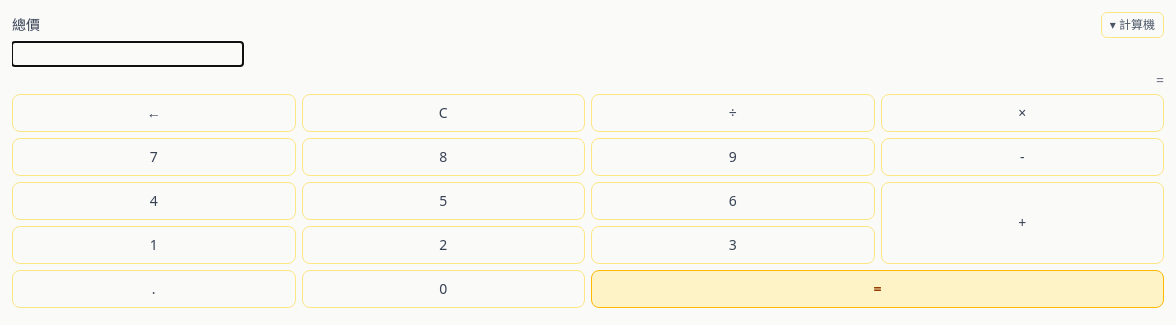
Test case: appends 8 then 0 even when the mobile input blurs after the first tap
Step 1. Press the mouse on the button "8" → (443, 157), box left=302, top=138, right=585, bottom=176
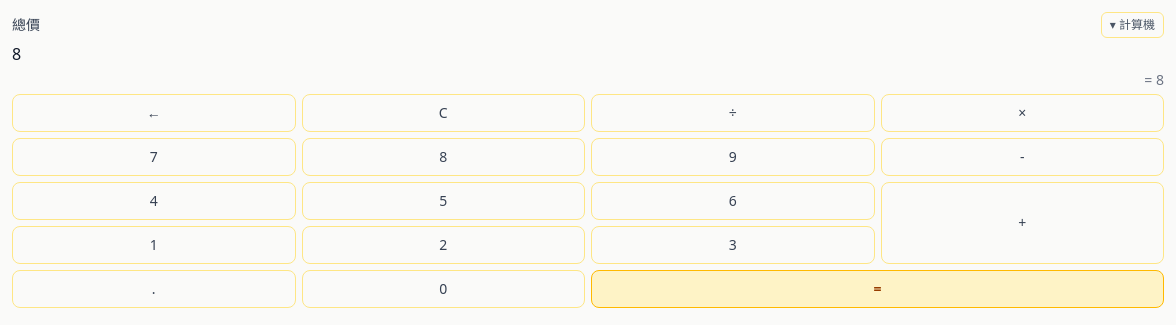
Now the field holds "8", box left=12, top=42, right=243, bottom=66
Step 2. Press the mouse on the button "0" → (443, 289), box left=302, top=270, right=585, bottom=308
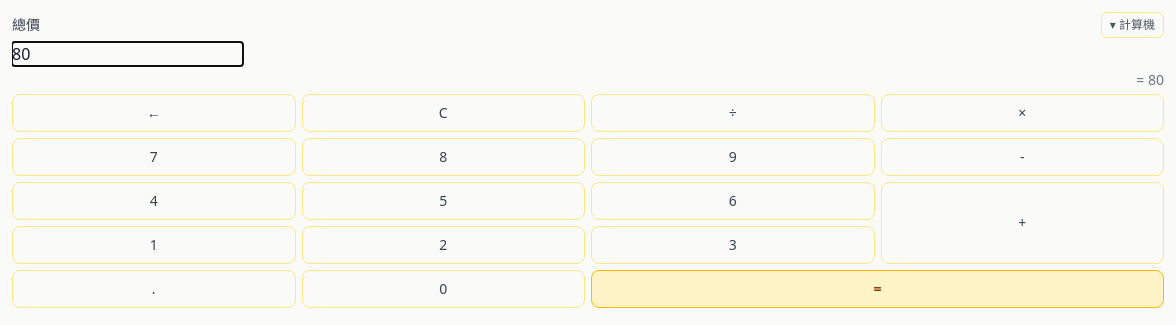
Now the field holds "80", box left=12, top=42, right=243, bottom=66
Step 3. Press the mouse on the button "2" → (443, 245), box left=302, top=226, right=585, bottom=264
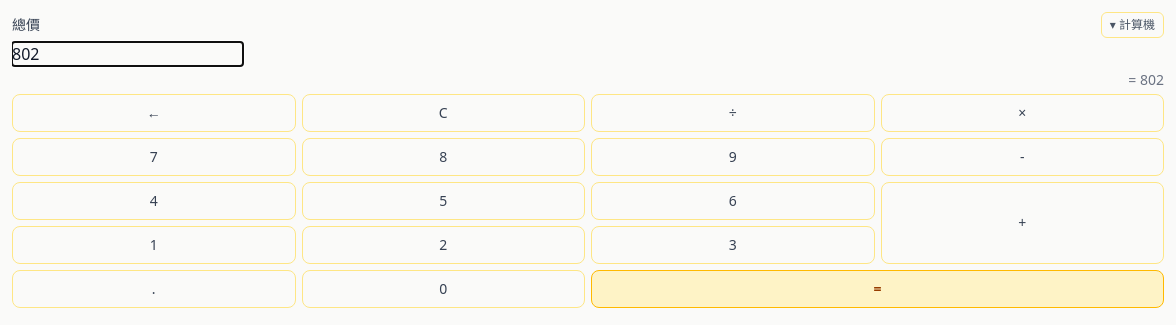
Now the field holds "802", box left=12, top=42, right=243, bottom=66
